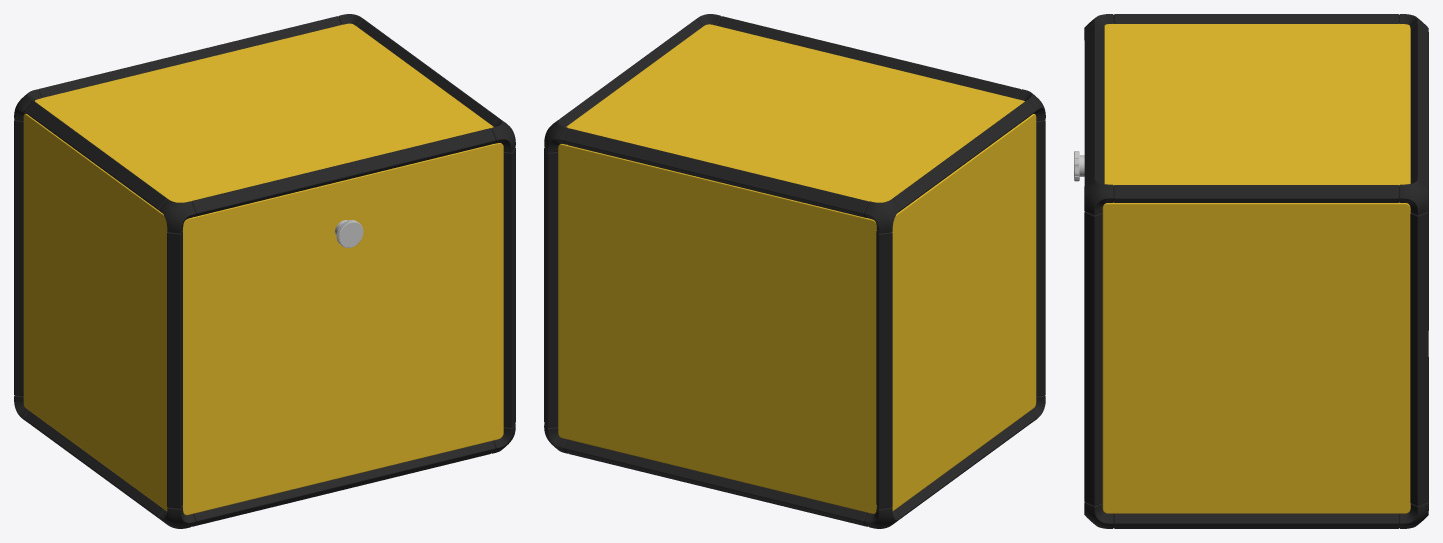
3 renders of one model, left to right at view 1: azimuth 30°, elevation 25°; view 2: azimuth 150°, elevation 25°; view 3: azimuth 270°, elevation 25°, orthographic. The views are drawn at different scales.
Visible parts, largest first — view 1: 479x374x420; view 2: 479x374x420; view 3: 479x374x420.
Part boxes in pixels (<box>): 479x374x420: <box>14,14,515,528</box>; 479x374x420: <box>544,14,1045,528</box>; 479x374x420: <box>1074,14,1428,528</box>.
Size of the model in its own units: 0.5567 by 0.4976 by 0.4646.
